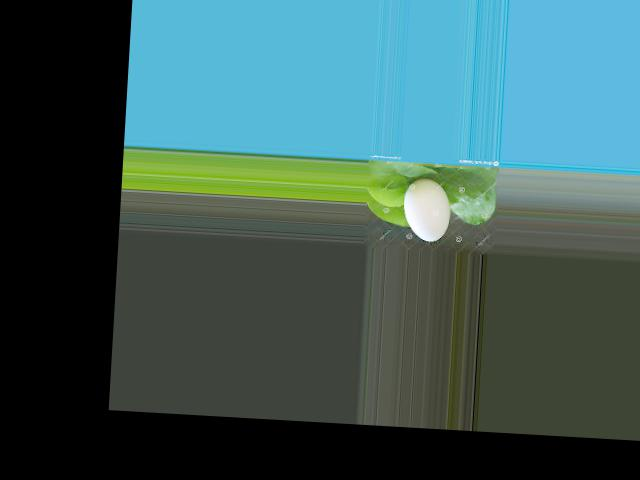egg: (401, 177, 451, 242)
